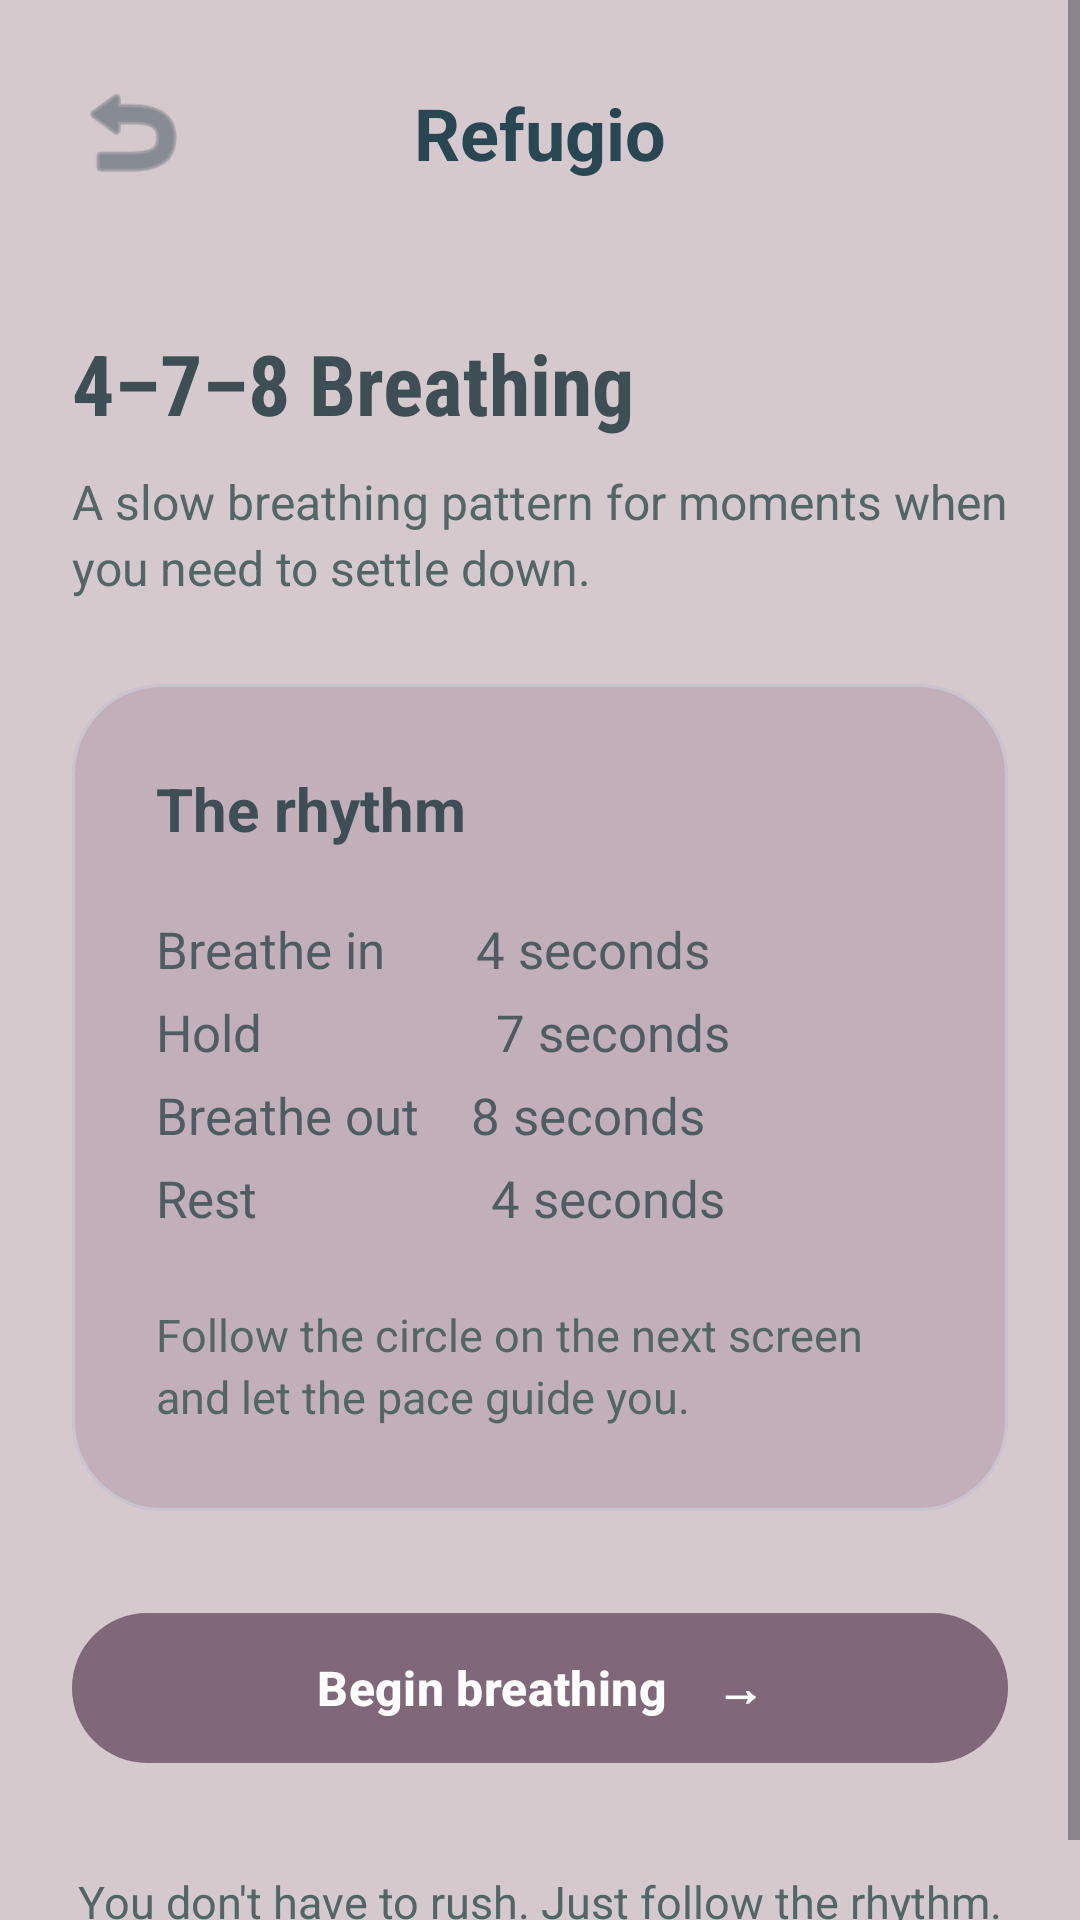

Point at icon controls on the screen. Image size 1080 × 1920, points as point (x, y).
Back: point (134, 133)
